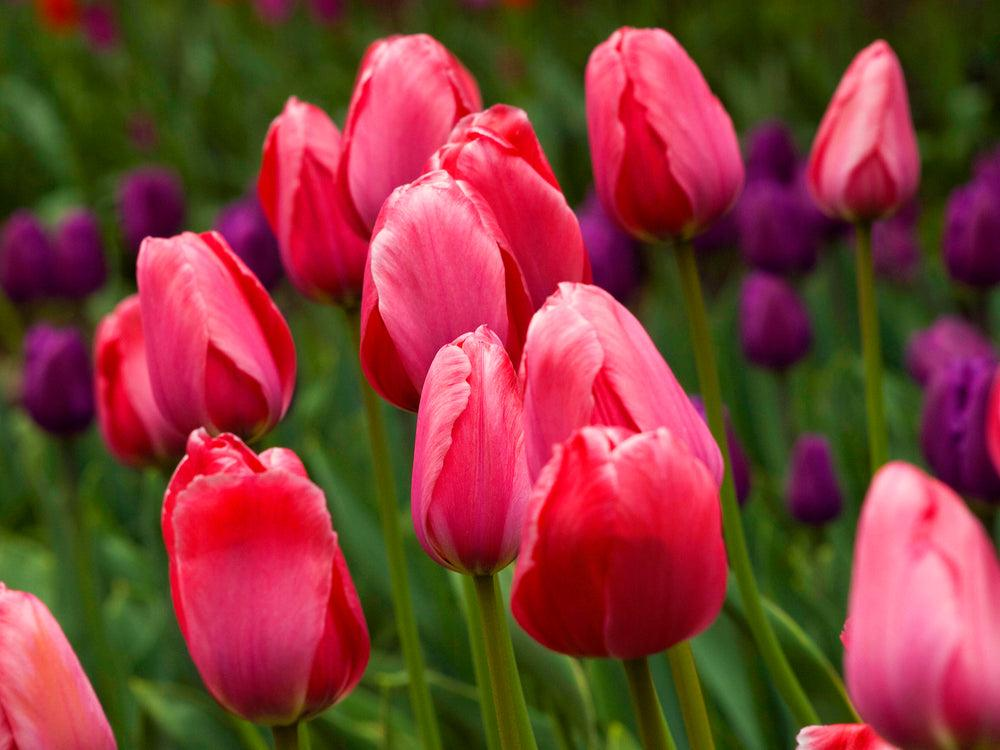tulip: (3, 21, 997, 747), (159, 426, 371, 729)
